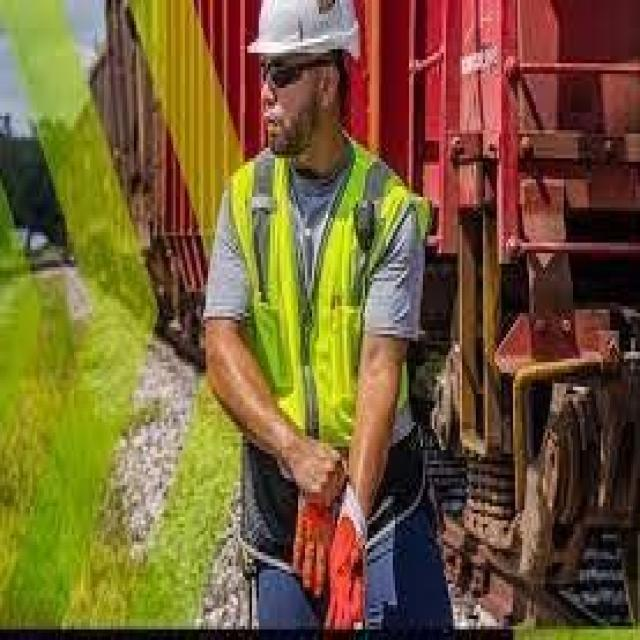vest: (223, 141, 429, 545)
